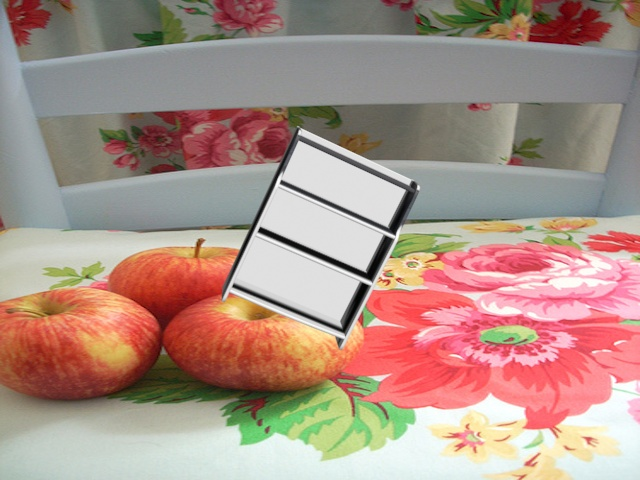bookcase: (217, 121, 424, 352)
